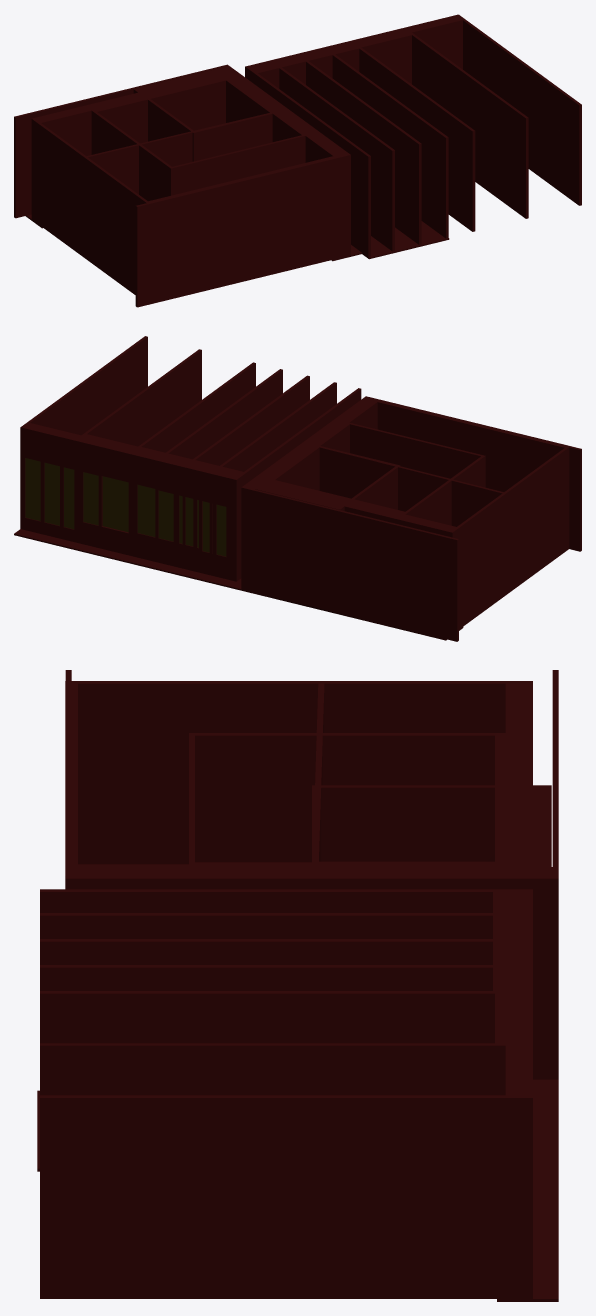
File: templates2.fbx
The picture shows the model from 3 angles, top to bottom: view 1: azimuth 30°, elevation 25°; view 2: azimuth 150°, elevation 25°; view 3: azimuth 270°, elevation 25°; orthographic projection. The views are drawn at different scales.
Visible parts, largest first — view 1: ShopLargeLarge, ShopMedium, ShopMediumMedium, ShopLarge, ShopLargeSmall, ShopSmall, Dumpster, Alley, ShopLarge001, ShopSmallSmall, Stairwell; view 2: ShopLarge001, ShopLarge, ShopMedium, ShopLargeLarge, ShopLargeSmall, ShopMediumMedium, ShopSmall, Alley, Dumpster, Stairwell, ShopSmallSmall; view 3: ShopLarge, ShopLargeLarge, ShopMediumMedium, ShopMedium, ShopSmall, ShopSmallSmall, Alley, Dumpster, Stairwell, ShopLarge001, ShopLargeSmall.
Part boxes in pixels (<box>): ShopLargeLarge: <box>59,70,361,304</box>; ShopMedium: <box>245,27,528,256</box>; ShopMediumMedium: <box>85,69,305,201</box>; ShopLarge: <box>245,14,581,257</box>; ShopLargeSmall: <box>25,69,288,258</box>; ShopSmall: <box>246,41,475,231</box>; Dumpster: <box>323,47,449,259</box>; Alley: <box>245,53,421,254</box>; ShopLarge001: <box>14,64,361,307</box>; ShopSmallSmall: <box>133,69,272,161</box>; Stairwell: <box>246,61,394,251</box>; ShopLarge001: <box>230,396,581,641</box>; ShopLarge: <box>14,336,361,585</box>; ShopMedium: <box>68,349,359,587</box>; ShopLargeLarge: <box>254,397,570,640</box>; ShopLargeSmall: <box>248,442,506,640</box>; ShopMediumMedium: <box>230,422,485,627</box>; ShopSmall: <box>128,362,345,586</box>; Alley: <box>176,375,361,586</box>; Dumpster: <box>149,369,282,586</box>; Stairwell: <box>203,382,336,586</box>; ShopSmallSmall: <box>255,446,400,510</box>; ShopLarge: <box>40,892,558,1301</box>; ShopLargeLarge: <box>65,681,532,888</box>; ShopMediumMedium: <box>189,733,532,889</box>; ShopMedium: <box>40,892,558,1246</box>; ShopSmall: <box>40,892,532,1043</box>; ShopSmallSmall: <box>312,785,551,1079</box>; Alley: <box>40,889,558,1142</box>; Dumpster: <box>37,965,556,1171</box>; Stairwell: <box>40,913,532,938</box>; ShopLarge001: <box>65,670,558,1090</box>; ShopLargeSmall: <box>312,681,532,878</box>.
Bounding box in the file's own units: 1642 × 846 × 365.
